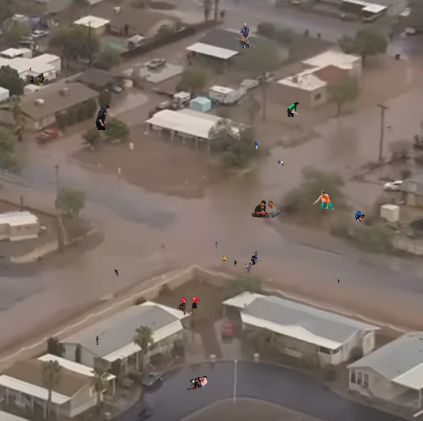Human: (234, 23, 256, 48), (243, 251, 268, 273), (251, 200, 281, 218), (183, 376, 208, 396), (176, 295, 200, 315), (312, 191, 334, 210), (95, 105, 110, 130), (199, 317, 221, 329), (265, 155, 285, 168), (287, 102, 299, 117), (30, 73, 46, 83), (355, 211, 367, 222), (96, 336, 101, 346), (114, 269, 119, 277), (254, 141, 258, 149), (222, 255, 227, 261), (419, 335, 423, 341), (234, 260, 237, 267), (215, 241, 218, 248), (29, 67, 32, 72), (128, 43, 131, 47), (269, 278, 271, 283), (338, 279, 340, 284)
